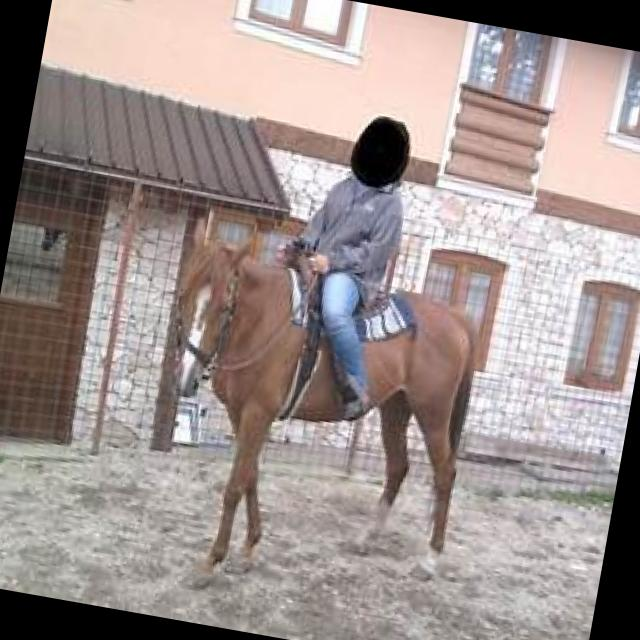animal: (128, 222, 492, 611)
